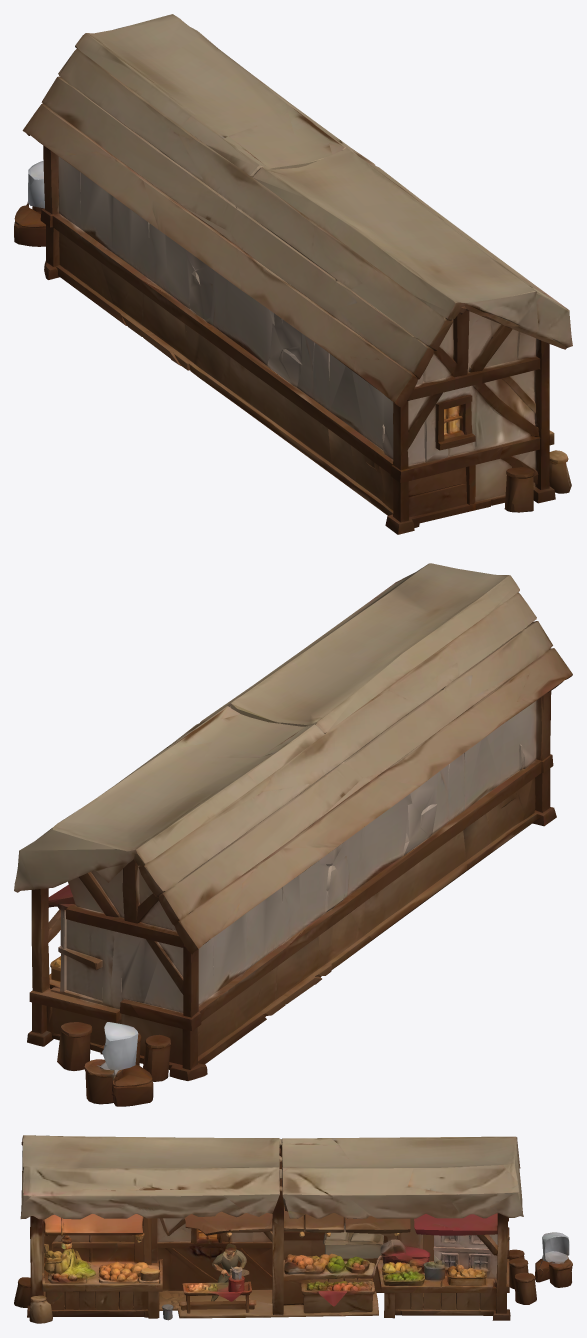
3 renders of one model, top to bottom at view 1: azimuth 30°, elevation 25°; view 2: azimuth 150°, elevation 25°; view 3: azimuth 270°, elevation 25°, orthographic. The views are drawn at different scales.
Parts seen in each view (by area): view 1: model; view 2: model; view 3: model.
Boxes of the visible parts, x1,y1,x2,y2 form: model: (14, 14, 572, 534); model: (14, 563, 572, 1106); model: (14, 1135, 572, 1323).
Size of the model in its own units: 0.4949 by 0.5574 by 1.9.
1 material, 1 textured.
